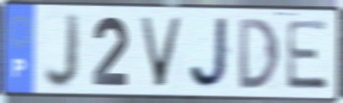2: (90, 13, 133, 90)
D: (236, 16, 282, 92)
E: (284, 18, 331, 92)
J: (187, 16, 232, 92), (42, 10, 83, 92)
V: (136, 15, 187, 90)
